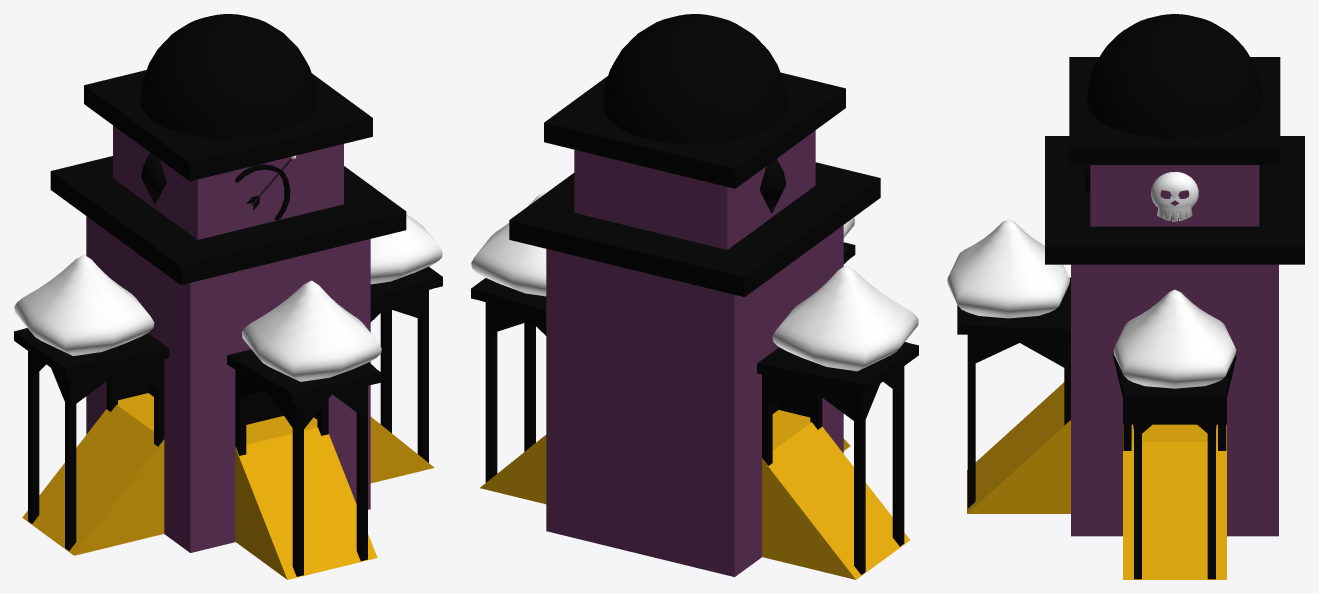
File: BuildingBlack.fbx
3 views of the same model, side by side, from view 1: azimuth 30°, elevation 25°; view 2: azimuth 150°, elevation 25°; view 3: azimuth 270°, elevation 25° (orthographic). The views are drawn at different scales.
Parts seen in each view (by area): view 1: BuildingBlack; view 2: BuildingBlack; view 3: BuildingBlack.
Part boxes in pixels (x1=…): BuildingBlack: x1=14, y1=14, x2=442, y2=579; BuildingBlack: x1=471, y1=14, x2=918, y2=579; BuildingBlack: x1=947, y1=14, x2=1304, y2=579.
Size of the model in its own units: 438 by 499 by 344.
